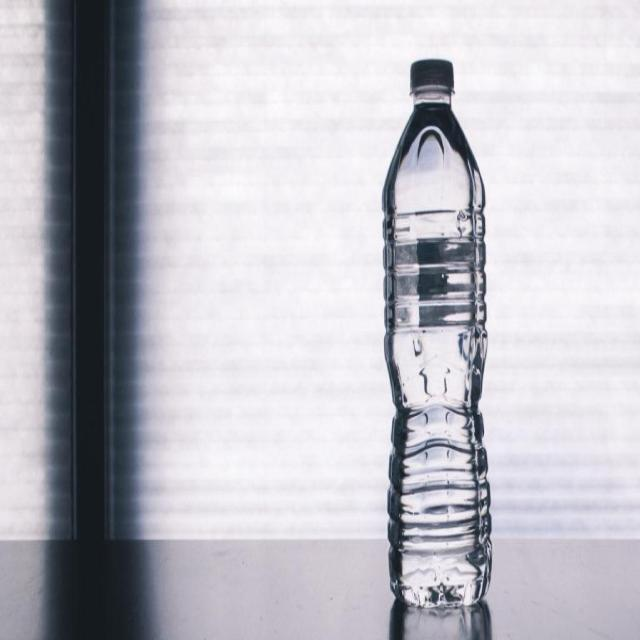bottle: (381, 54, 492, 621)
